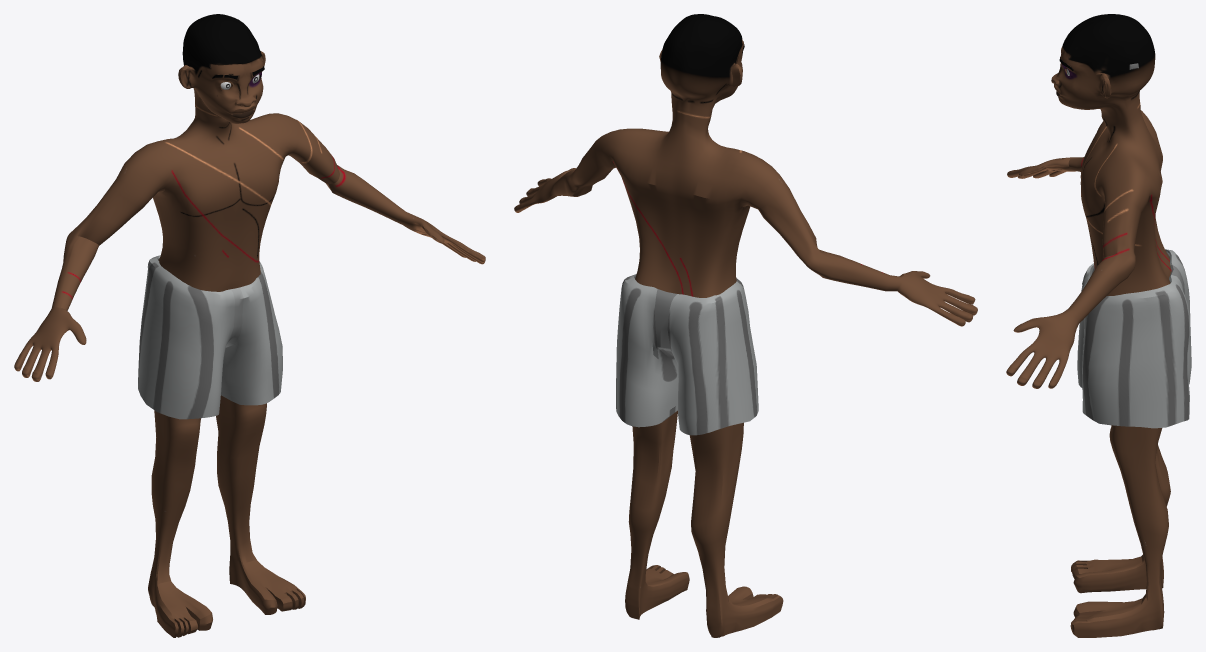
Rendered from arthur02.fbx.
The picture shows the model from 3 angles, left to right: view 1: azimuth 30°, elevation 25°; view 2: azimuth 150°, elevation 25°; view 3: azimuth 270°, elevation 25°; orthographic projection.
Parts seen in each view (by area): view 1: corpo, shorts; view 2: corpo, shorts; view 3: corpo, shorts.
Boxes of the visible parts, x1=… form: corpo: x1=14, y1=14, x2=485, y2=637; shorts: x1=138, y1=255, x2=282, y2=419; corpo: x1=514, y1=14, x2=977, y2=637; shorts: x1=616, y1=274, x2=758, y2=435; corpo: x1=1006, y1=14, x2=1171, y2=637; shorts: x1=1077, y1=249, x2=1191, y2=428.
Size of the model in its own units: 1080 by 1347 by 384.
3 materials, 3 textured.
